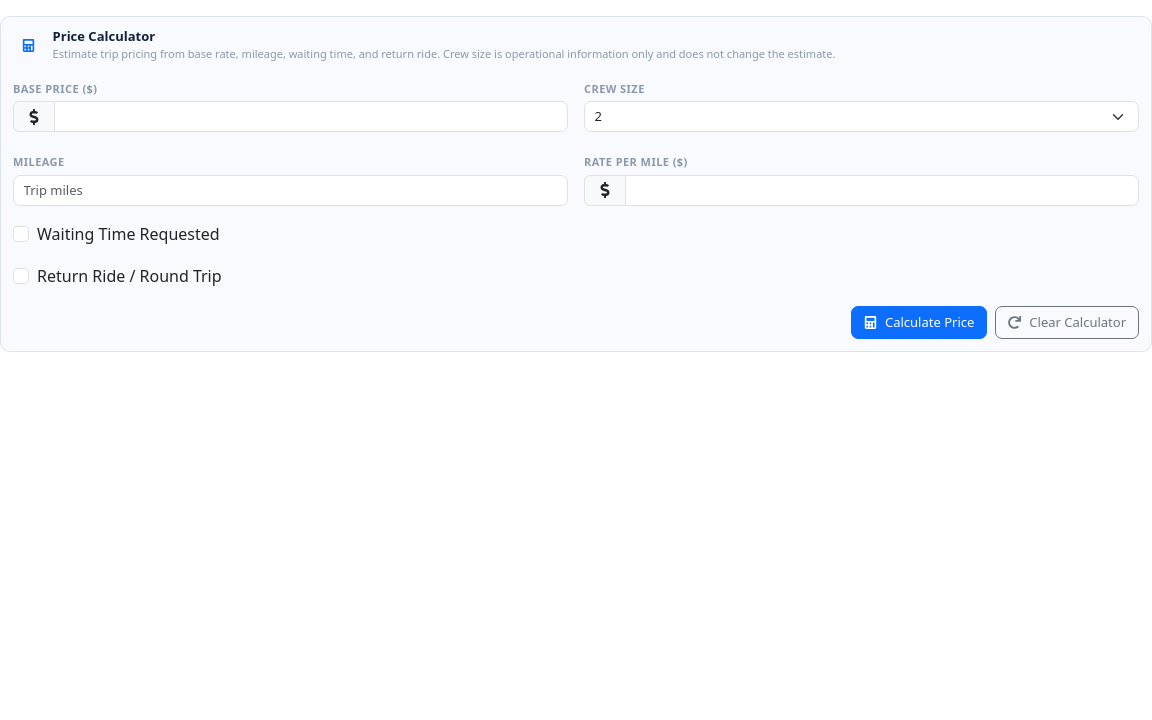
Scenario: PriceCalculator (component) › shows the computed estimate the breakdown adds up to
The width and height of the screenshot is (1152, 720).
Type "100" into the number field labelled "Base Price ($)" at (311, 117), box [54,101,568,132]
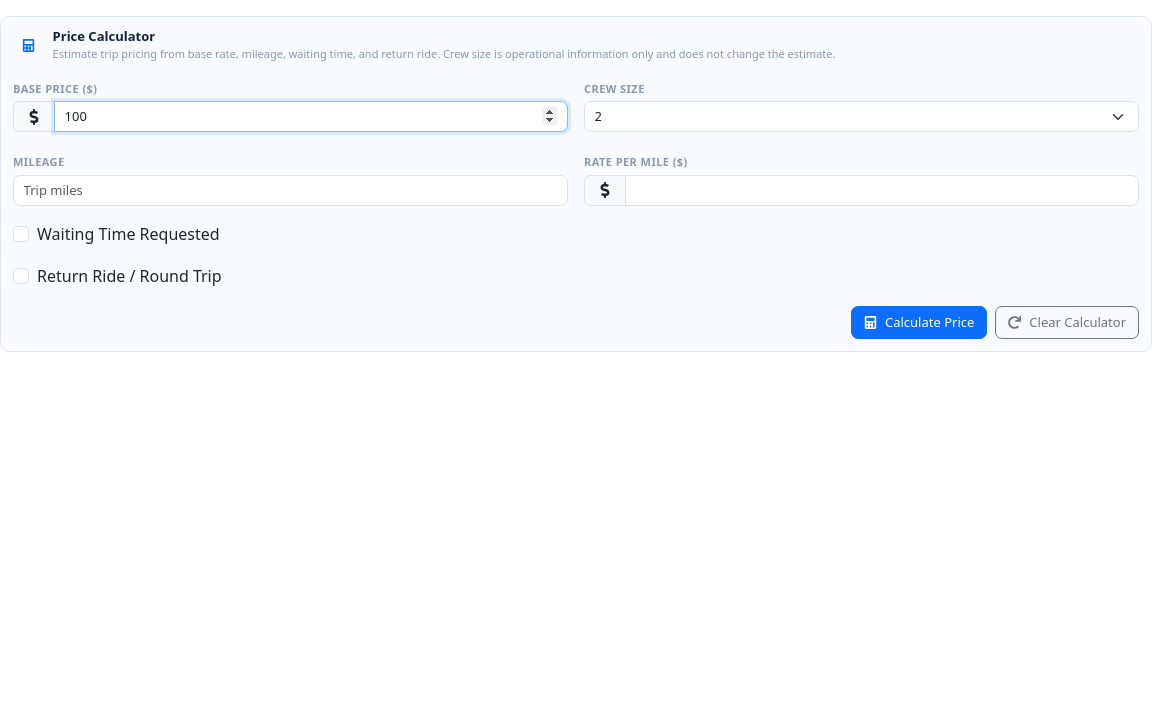
Type "10" into the number field labelled "Mileage" at (290, 190), box [13,175,568,206]
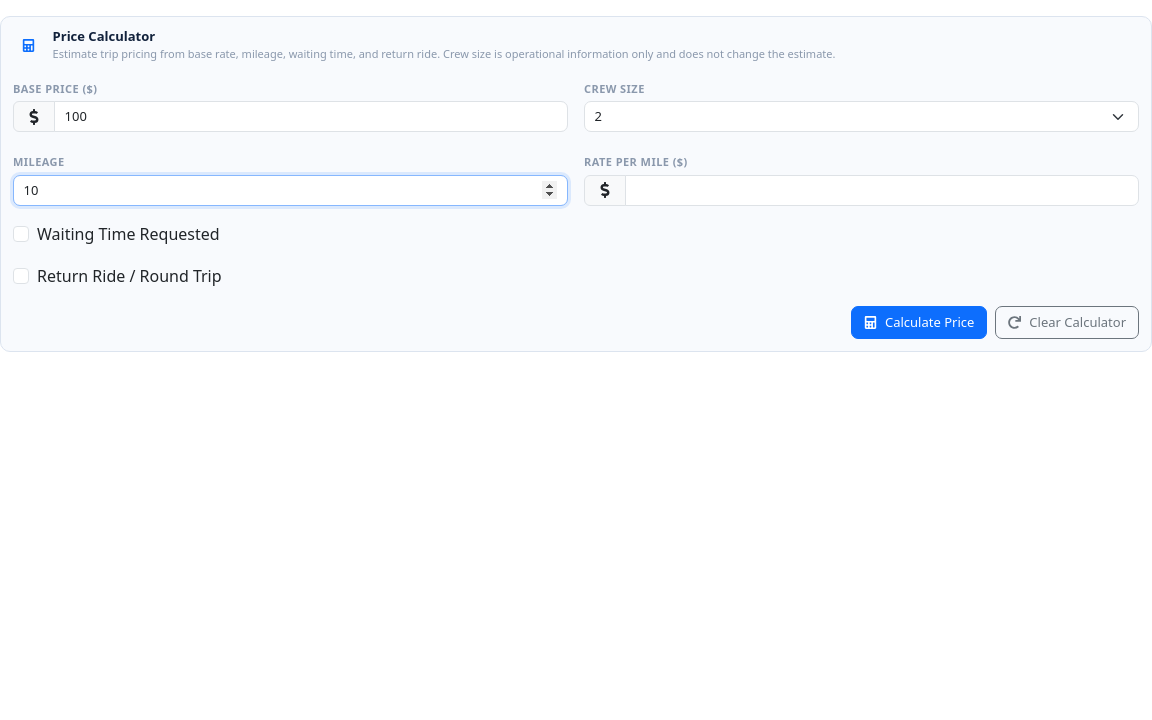
Type "2" into the number field labelled "Rate per Mile ($)" at (882, 190), box [625,175,1139,206]
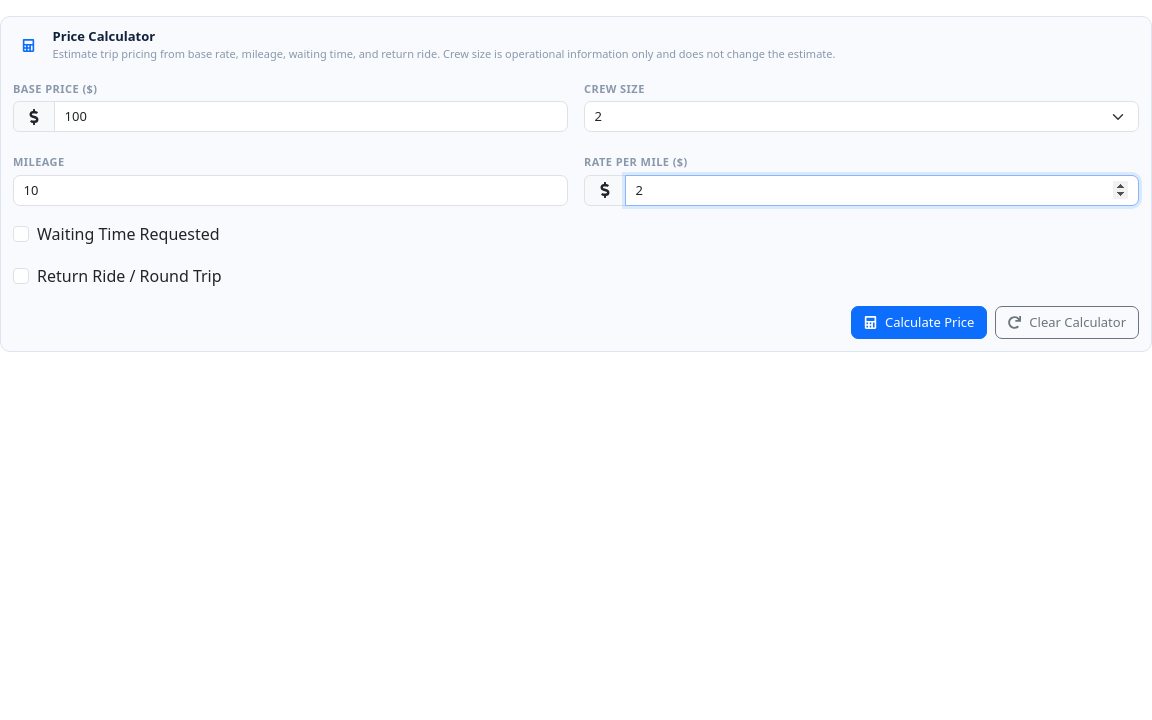
Click the button "Calculate Price" at (919, 323), box [851,306,987,339]
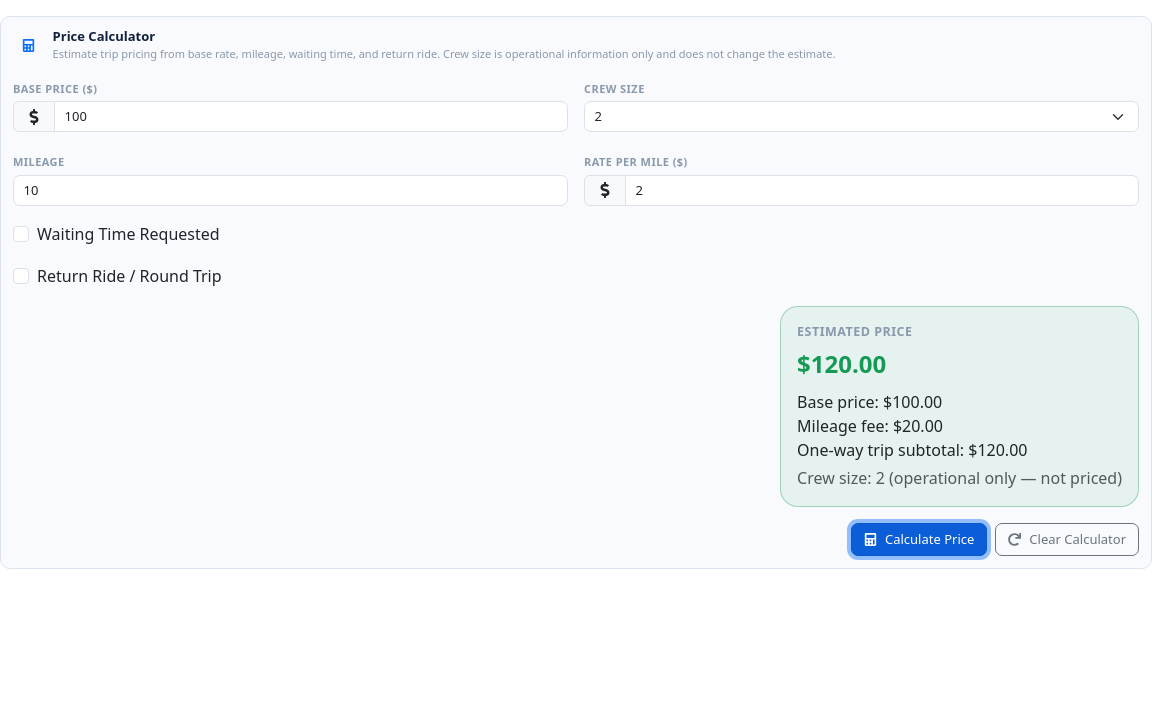
Expected: the text "$120.00" is shown, [797,347,886,380]
